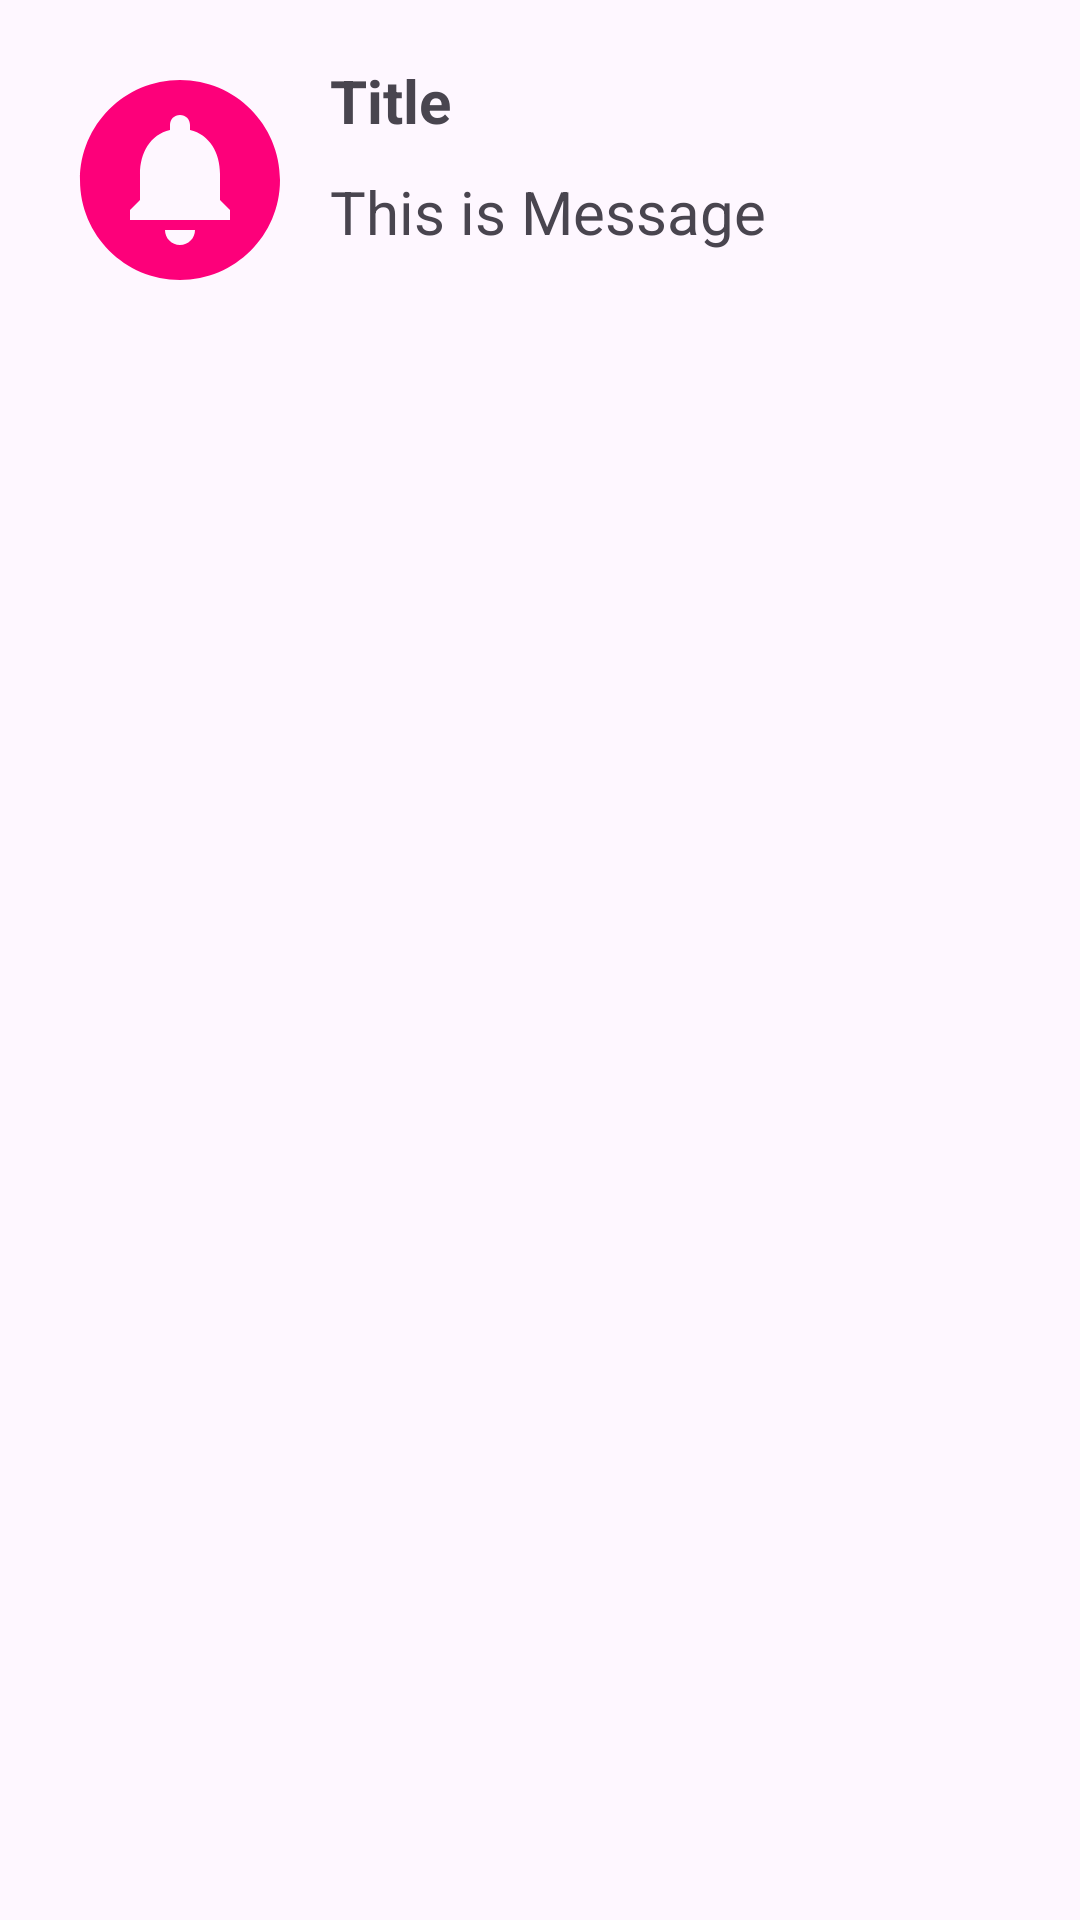

Icon bounding boxes for this 1080 x 1920 phone screenshot, format (x1, y1, x2, y2):
circle notifications: (79, 80, 280, 280)
